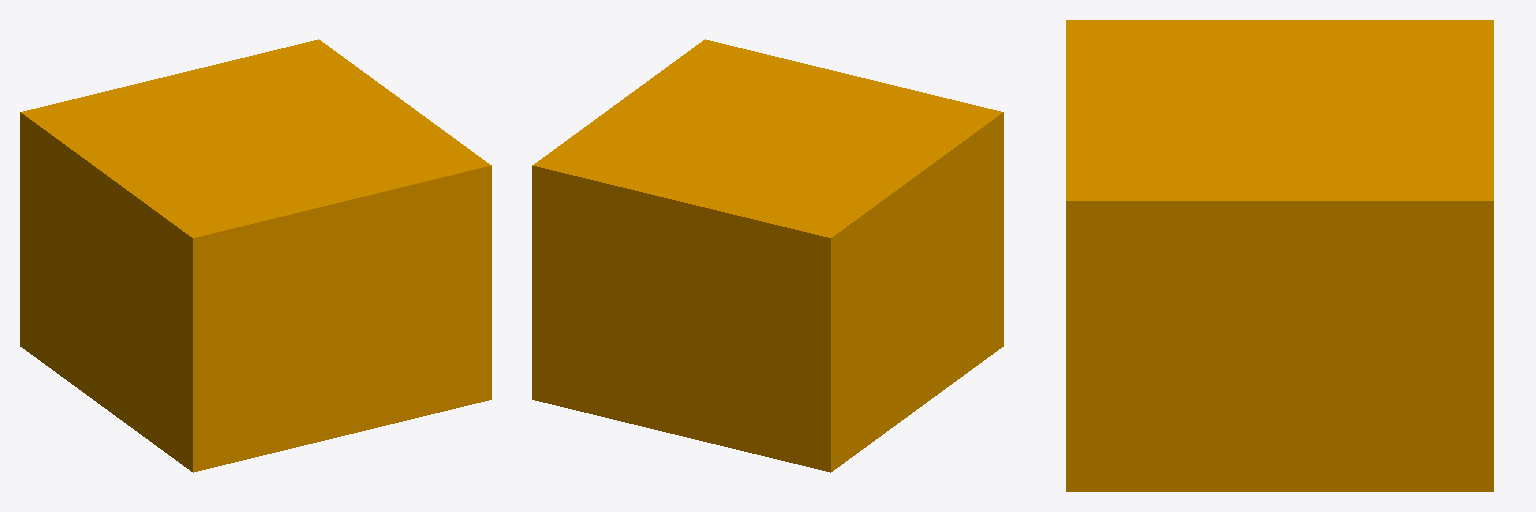
robot.urdf — 3v2_test_hand_cuboid_small:
<?xml version="1.0" ?>
<robot name="3v2_test_hand_cuboid_small">

    <link name="3v2_test_hand_cuboid_small">
        <visual>
            <origin rpy="1.5707963267948966 0 0" xyz="0 0 0"/>
            <geometry>
                <mesh filename="obj_files/3v2_test_hand_cuboid_small.obj" scale="1 1 1"/>
            </geometry>
        </visual>
        <collision>
            <geometry>
                <mesh filename="obj_files/3v2_test_hand_cuboid_small_collision.obj" scale="1 1 1"/>
            </geometry>
        </collision>
    </link>

</robot>

--- What the picture shows (computed from the rendered views, not written in the file) ---
The picture shows the robot from 3 angles, left to right: view 1: azimuth 30°, elevation 25°; view 2: azimuth 150°, elevation 25°; view 3: azimuth 270°, elevation 25°; orthographic projection.
Model 3v2_test_hand_cuboid_small with 1 links and 0 joints (none), rooted at 3v2_test_hand_cuboid_small, posed every joint at zero.
Visible links, largest first — view 1: 3v2_test_hand_cuboid_small; view 2: 3v2_test_hand_cuboid_small; view 3: 3v2_test_hand_cuboid_small.
Link boxes in pixels (x1,y1,x2,y2): 3v2_test_hand_cuboid_small: (20,39,491,472); 3v2_test_hand_cuboid_small: (532,39,1003,472); 3v2_test_hand_cuboid_small: (1066,20,1493,491).
Bounding box of the posed robot: 0.08 × 0.08 × 0.06 m (x, y, z).
Meshes: 1 distinct files referenced, 1 mesh visuals loaded (1 OBJ).